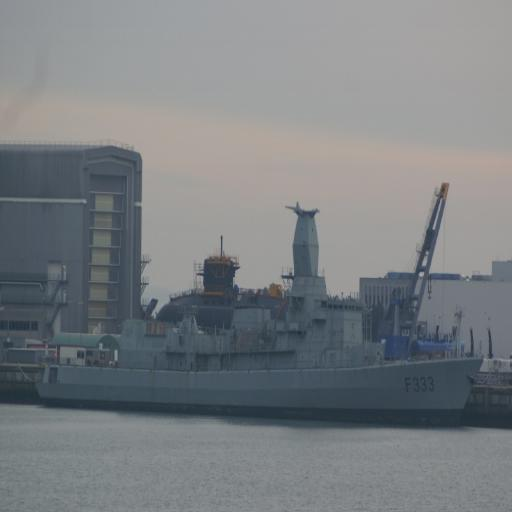Fragata: (34, 206, 488, 426)
